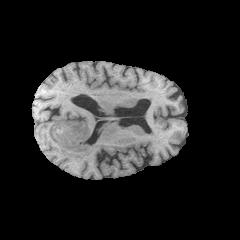glioma: (53, 109, 94, 160)
